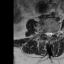CCS_normal: (47, 29, 49, 39)
LFS_normal: (52, 29, 54, 37)
LLS_normal: (49, 29, 52, 38)
RFS_normal: (43, 29, 45, 36)
RLS_normal: (45, 30, 47, 37)
